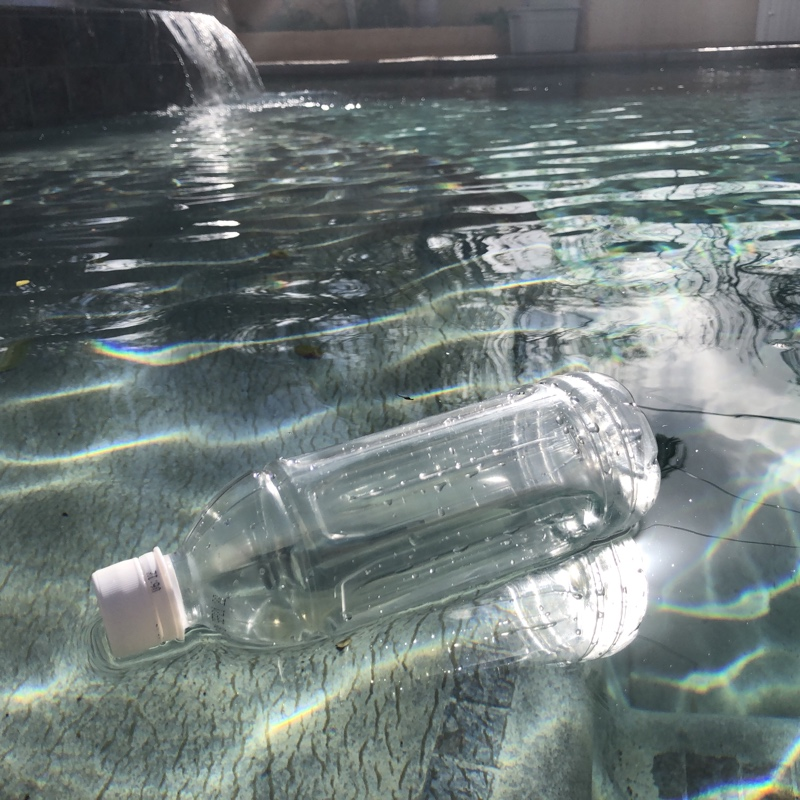Plastic Bottle: (83, 359, 668, 684)
